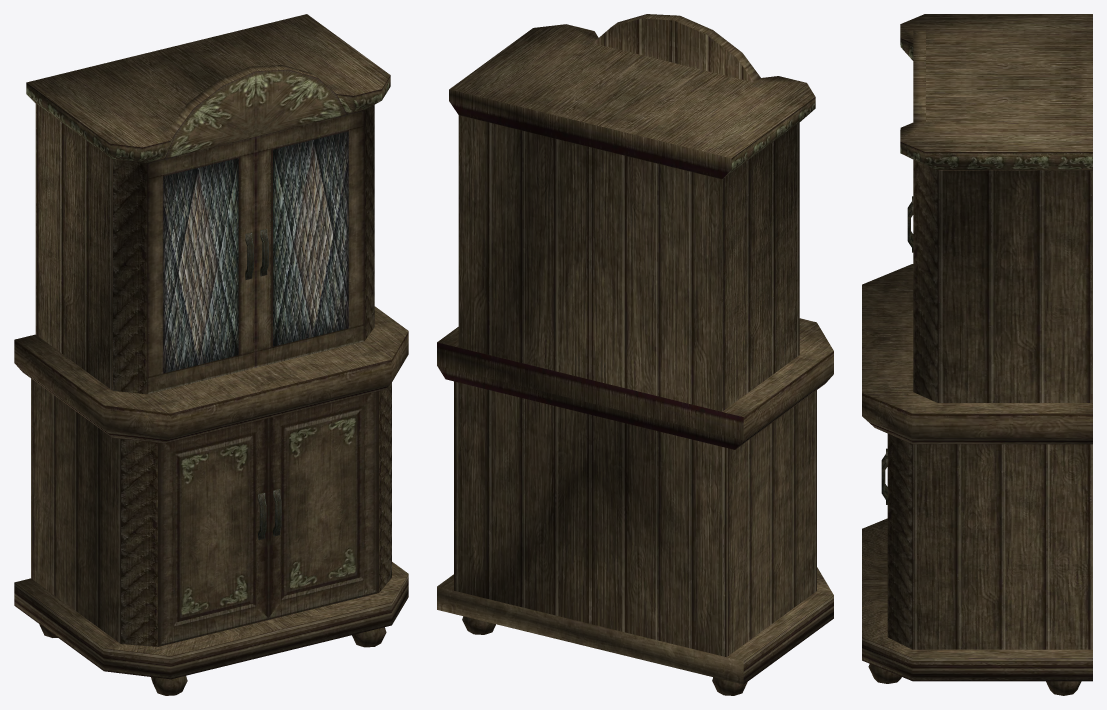
Rendered from GS_CITY_CUPBOARD_BROWN_03_KOZA.glb.
3 views of the same model, side by side, from view 1: azimuth 30°, elevation 25°; view 2: azimuth 150°, elevation 25°; view 3: azimuth 270°, elevation 25° (orthographic).
Parts seen in each view (by area): view 1: Mesh; view 2: Mesh; view 3: Mesh.
Boxes of the visible parts, bbox=[...] form: Mesh: bbox=[14, 14, 408, 695]; Mesh: bbox=[437, 14, 833, 695]; Mesh: bbox=[862, 14, 1092, 695].
Bounding box in the file's own units: 1.38 × 2.53 × 0.9.
Materials: 5 (5 with a texture image).
